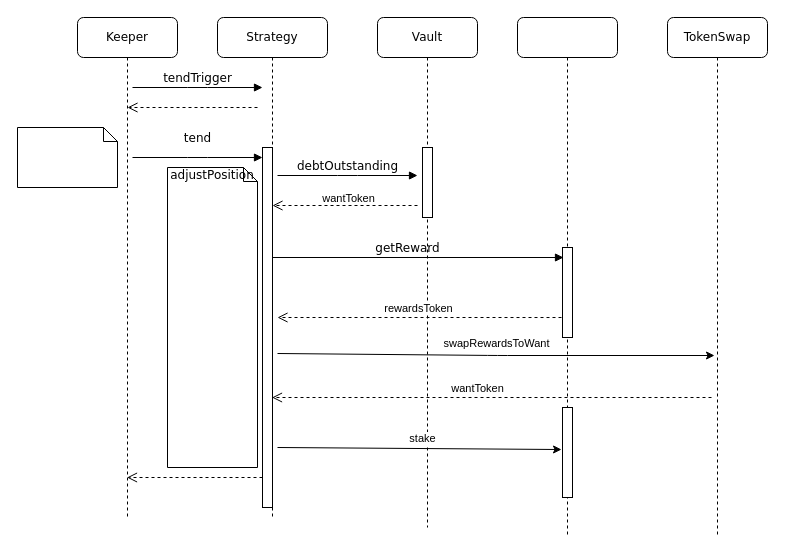
The diagram is 785 pixels wide and 555 high, and some of its shapes have lost their labels. The centre of each missing label's shape, as x and y in pixels:
if tendTrigger is true then call tend: the point at 67,157
PProtocol: the point at 567,277
